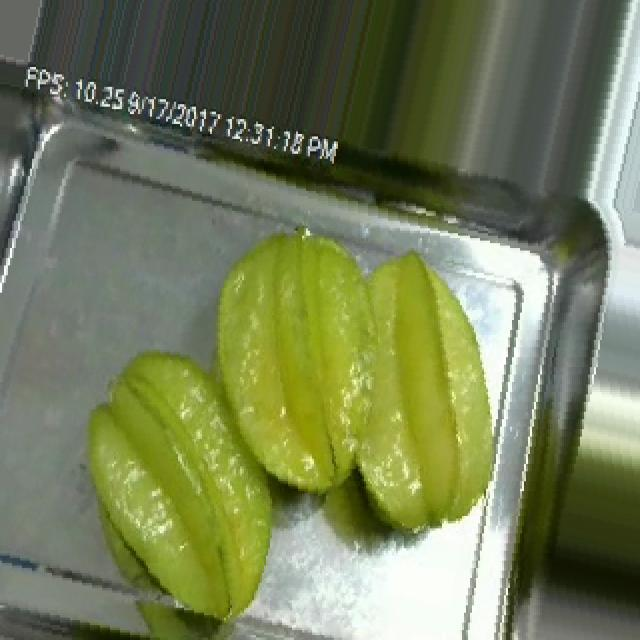fruit: (172, 204, 556, 548), (44, 317, 316, 640)
